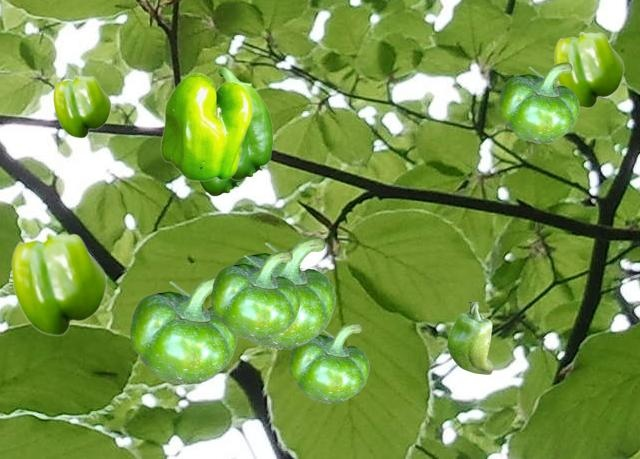bell_pepper: (130, 275, 236, 383), (232, 236, 334, 348), (160, 72, 251, 180), (11, 232, 106, 335), (211, 250, 299, 339), (499, 62, 578, 142), (289, 322, 368, 402), (216, 67, 272, 179), (554, 31, 623, 107), (53, 75, 110, 137), (447, 302, 492, 373), (198, 178, 246, 195)
